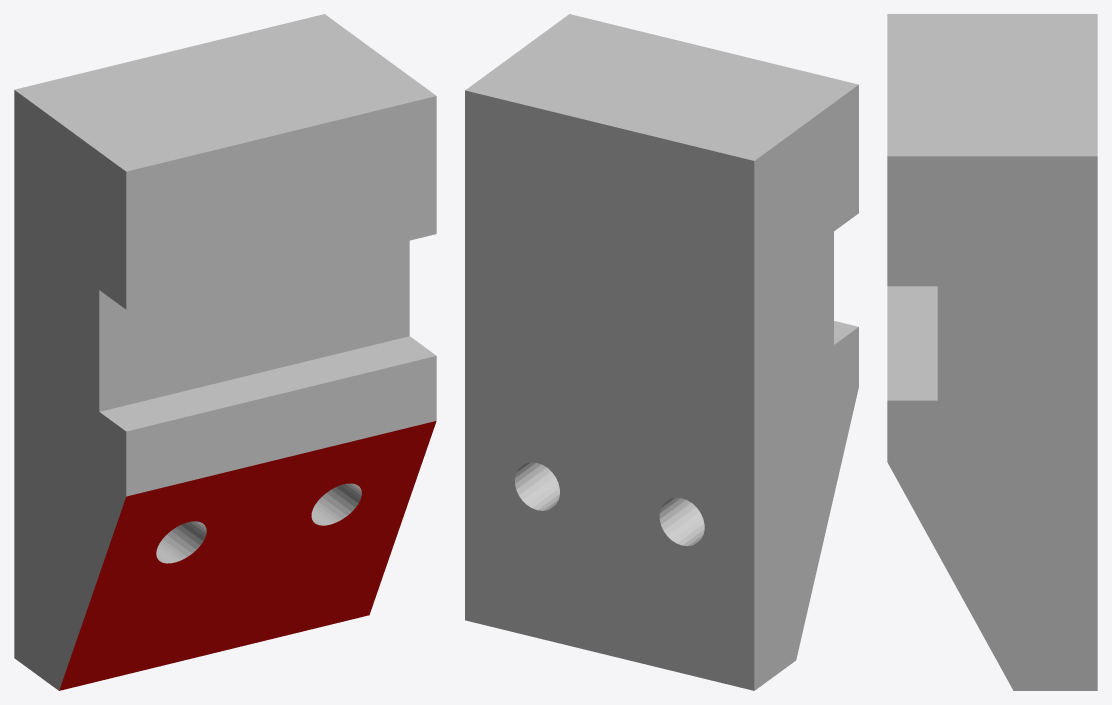
File: TESTE_M5_SF_stp_9.obj
The picture shows the model from 3 angles, left to right: view 1: azimuth 30°, elevation 25°; view 2: azimuth 150°, elevation 25°; view 3: azimuth 270°, elevation 25°; orthographic projection. The views are drawn at different scales.
Visible parts, largest first — view 1: Object1; view 2: Object1; view 3: Object1.
Boxes of the visible parts, x1,y1,x2,y2 form: Object1: (14, 14, 436, 690); Object1: (465, 14, 858, 690); Object1: (887, 14, 1097, 690).
Bounding box in the file's own units: 50.8 × 88.9 × 31.75.
